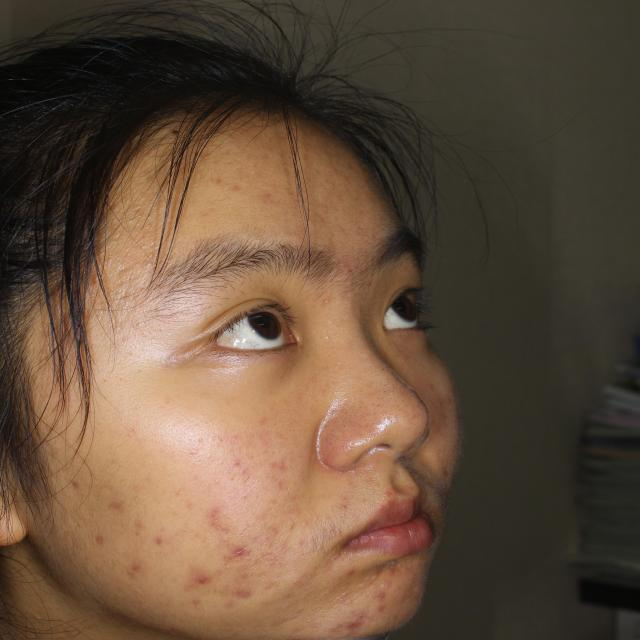acne: (327, 609, 376, 636), (227, 578, 265, 607), (358, 589, 396, 613), (183, 561, 213, 590), (209, 502, 236, 532), (100, 491, 130, 514), (124, 555, 146, 582), (374, 563, 407, 574), (125, 516, 144, 535), (227, 549, 246, 567)
